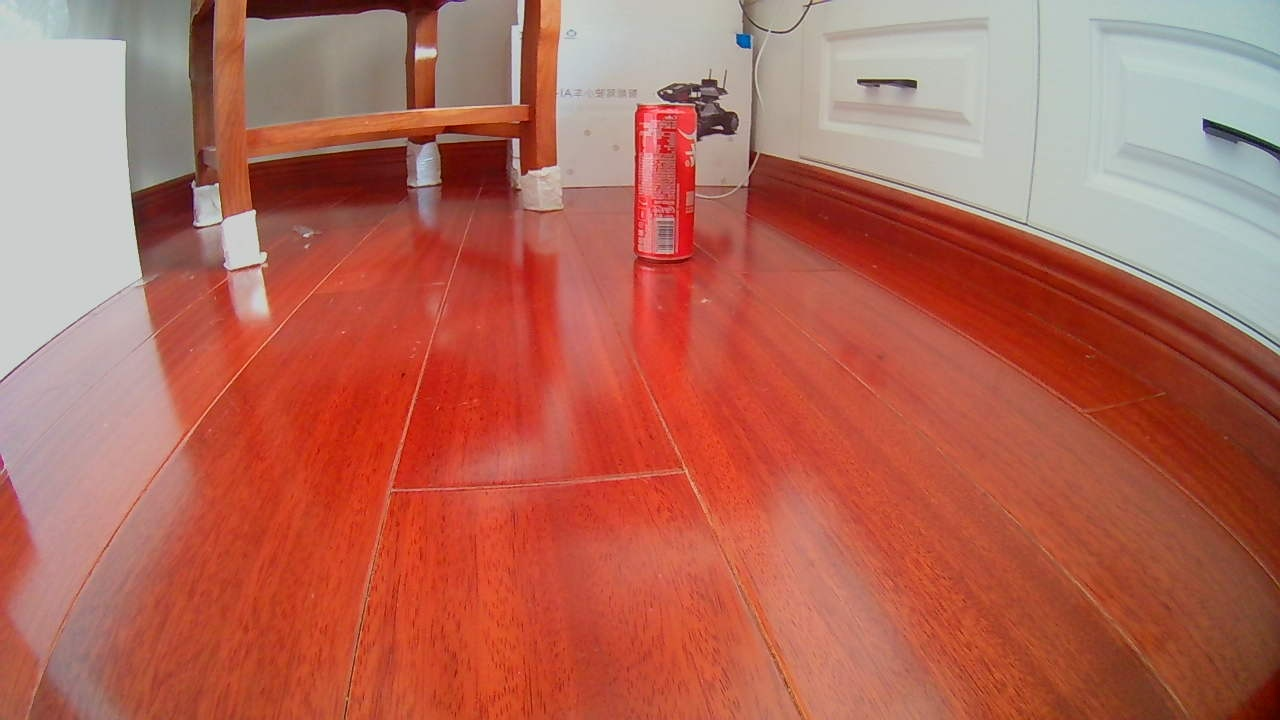cola: (629, 96, 698, 267)
